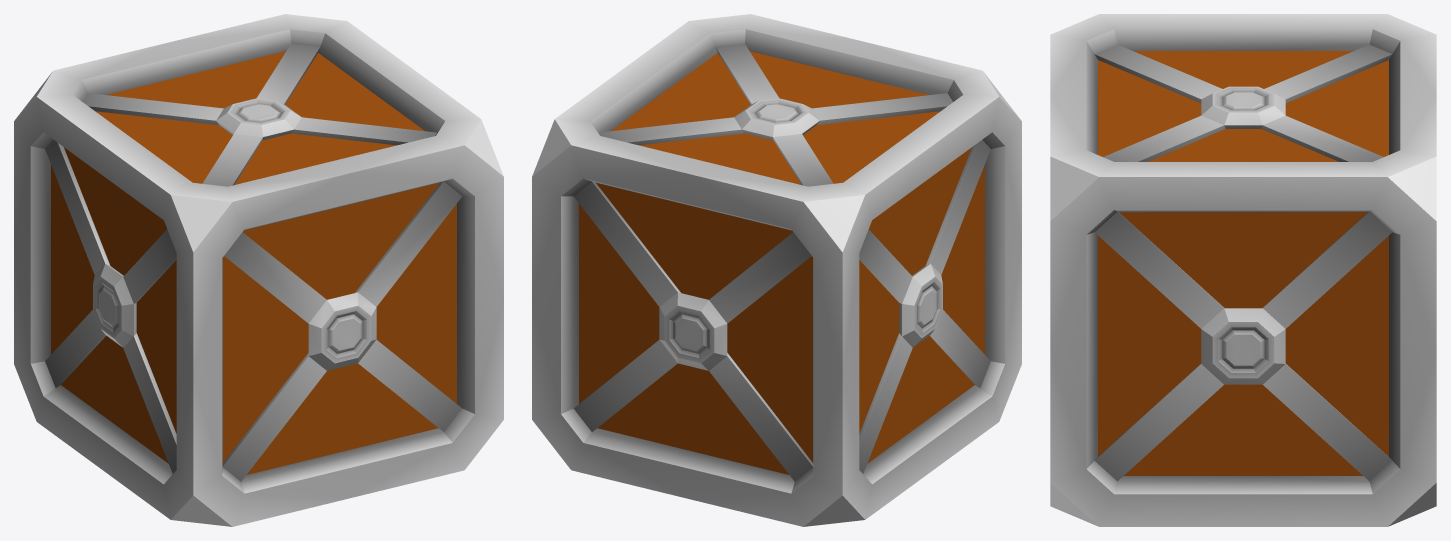
File: deco_crate_small.FBX
The picture shows the model from 3 angles, left to right: view 1: azimuth 30°, elevation 25°; view 2: azimuth 150°, elevation 25°; view 3: azimuth 270°, elevation 25°; orthographic projection. The views are drawn at different scales.
Parts seen in each view (by area): view 1: deco_crate_small; view 2: deco_crate_small; view 3: deco_crate_small.
Boxes of the visible parts, x1,y1,x2,y2 form: deco_crate_small: (14,14,503,526); deco_crate_small: (532,14,1021,526); deco_crate_small: (1050,14,1436,526).
Bounding box in the file's own units: 0.5 × 0.5 × 0.5.
